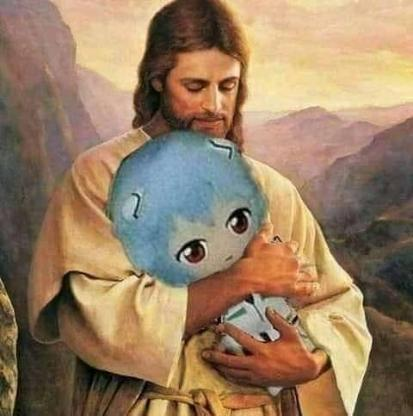rei-plush: (105, 123, 276, 291)
